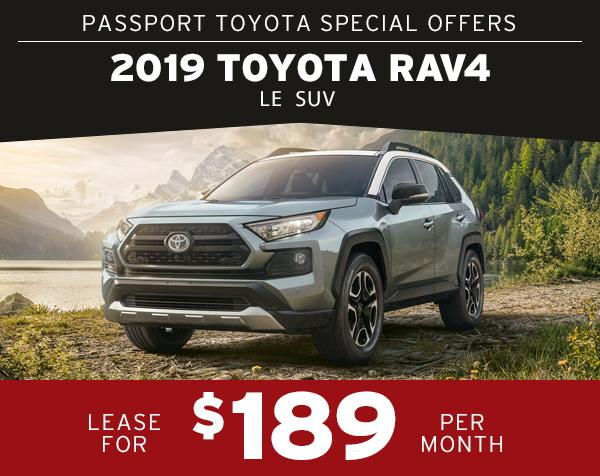Toyota RAV-4: (101, 141, 484, 365)
